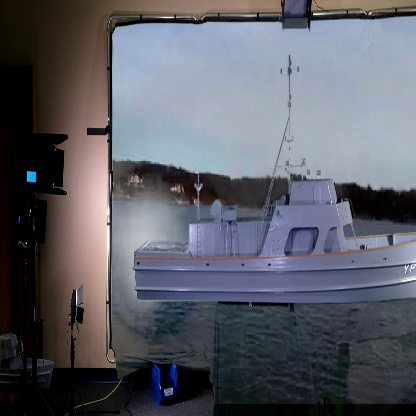YP689: (131, 47, 416, 303)
